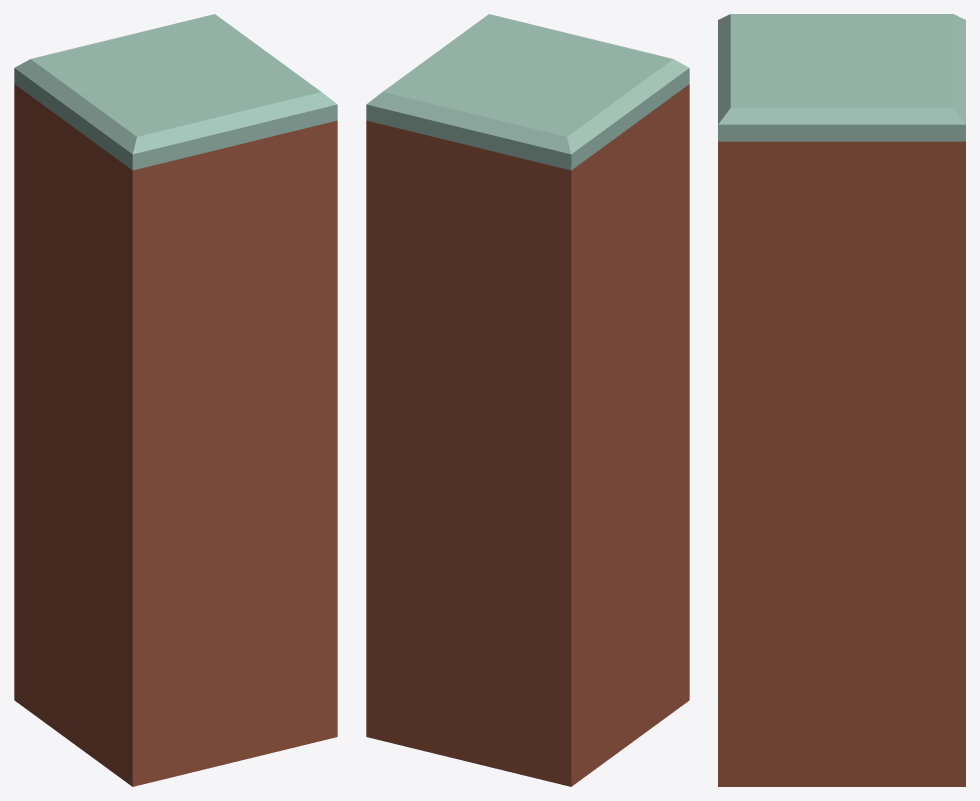
Rendered from Cliff1.fbx.
3 views of the same model, side by side, from view 1: azimuth 30°, elevation 25°; view 2: azimuth 150°, elevation 25°; view 3: azimuth 270°, elevation 25° (orthographic). The views are drawn at different scales.
Parts seen in each view (by area): view 1: Cube; view 2: Cube; view 3: Cube.
Part boxes in pixels (x1,y1,x2,y2): Cube: [14, 14, 337, 786]; Cube: [366, 14, 689, 786]; Cube: [718, 14, 965, 786].
Bounding box in the file's own units: 2 × 6 × 2.
